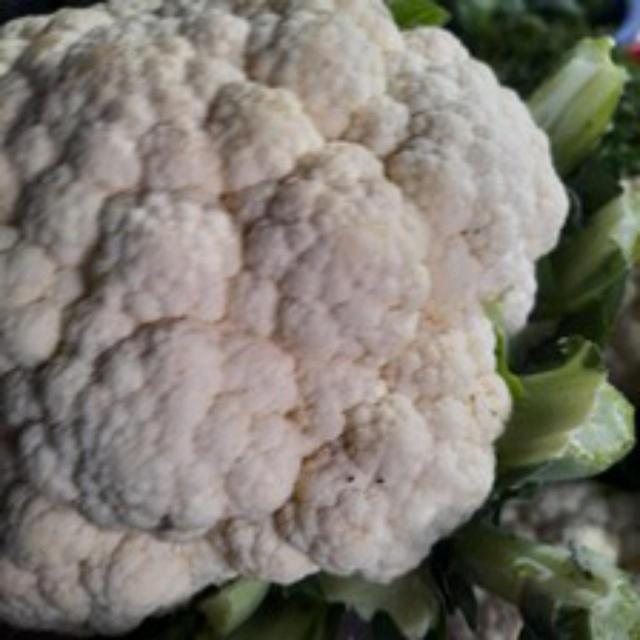cauliflower: (0, 0, 577, 637)
